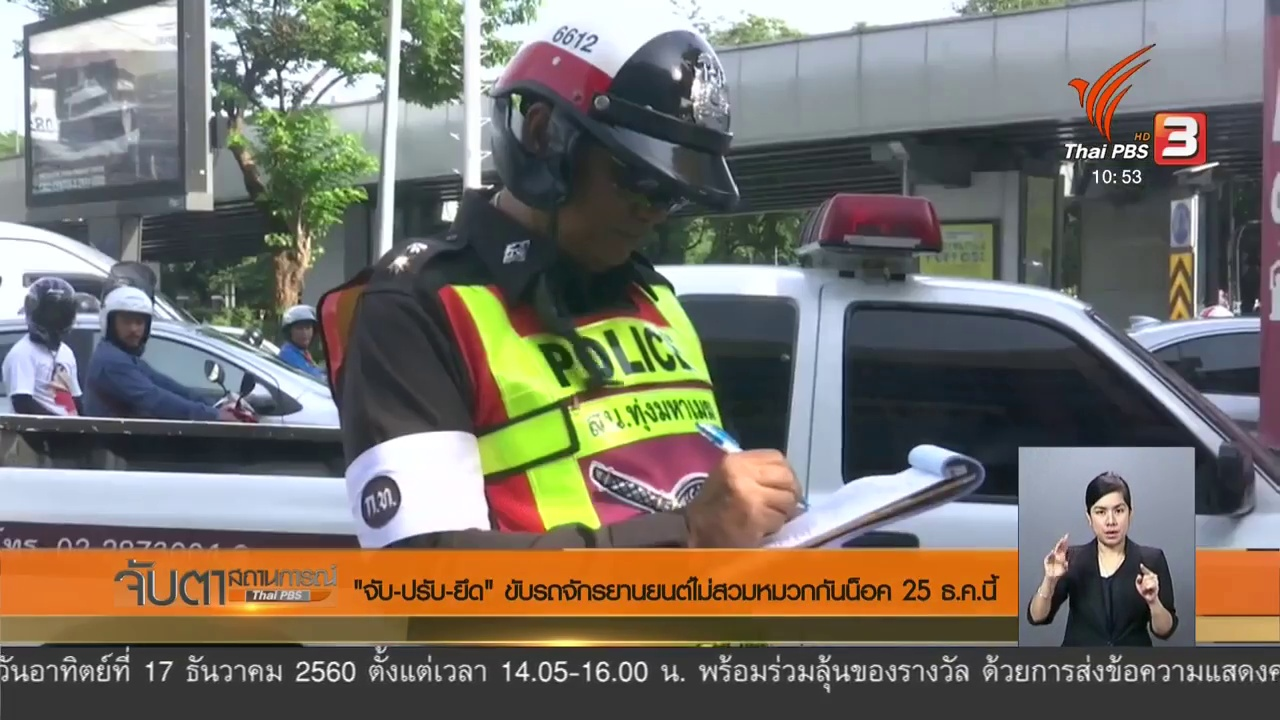helmet: (491, 4, 753, 152), (20, 273, 83, 349), (20, 270, 78, 349), (97, 284, 160, 345), (272, 297, 318, 345)
